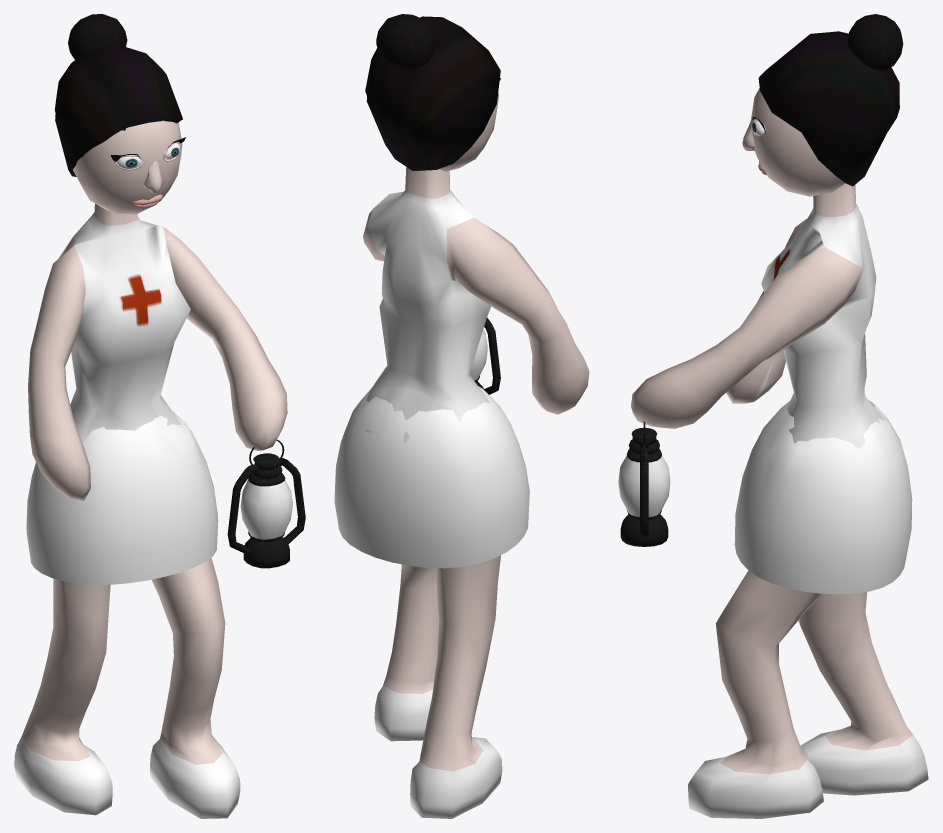
Rendered from walking_000022.obj.
The picture shows the model from 3 angles, left to right: view 1: azimuth 30°, elevation 25°; view 2: azimuth 150°, elevation 25°; view 3: azimuth 270°, elevation 25°; orthographic projection. The views are drawn at different scales.
Parts seen in each view (by area): view 1: Cube_Cube.001, Cube.001_Cube, Cube.004; view 2: Cube_Cube.001, Cube.001_Cube, Cube.004; view 3: Cube_Cube.001, Cube.001_Cube, Cube.004.
Boxes of the visible parts, box(x1,y1,x2,y2) form: Cube_Cube.001: box(14, 14, 287, 818); Cube.001_Cube: box(26, 411, 218, 584); Cube.004: box(227, 439, 305, 568); Cube_Cube.001: box(363, 14, 589, 818); Cube.001_Cube: box(334, 386, 529, 568); Cube.004: box(469, 317, 500, 394); Cube_Cube.001: box(631, 14, 928, 818); Cube.001_Cube: box(734, 400, 912, 594); Cube.004: box(618, 421, 670, 546).
Bounding box in the file's own units: 0.6052 × 2.07 × 0.7387.
